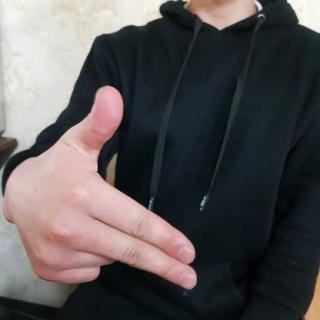GHAYN: (13, 81, 214, 296)
